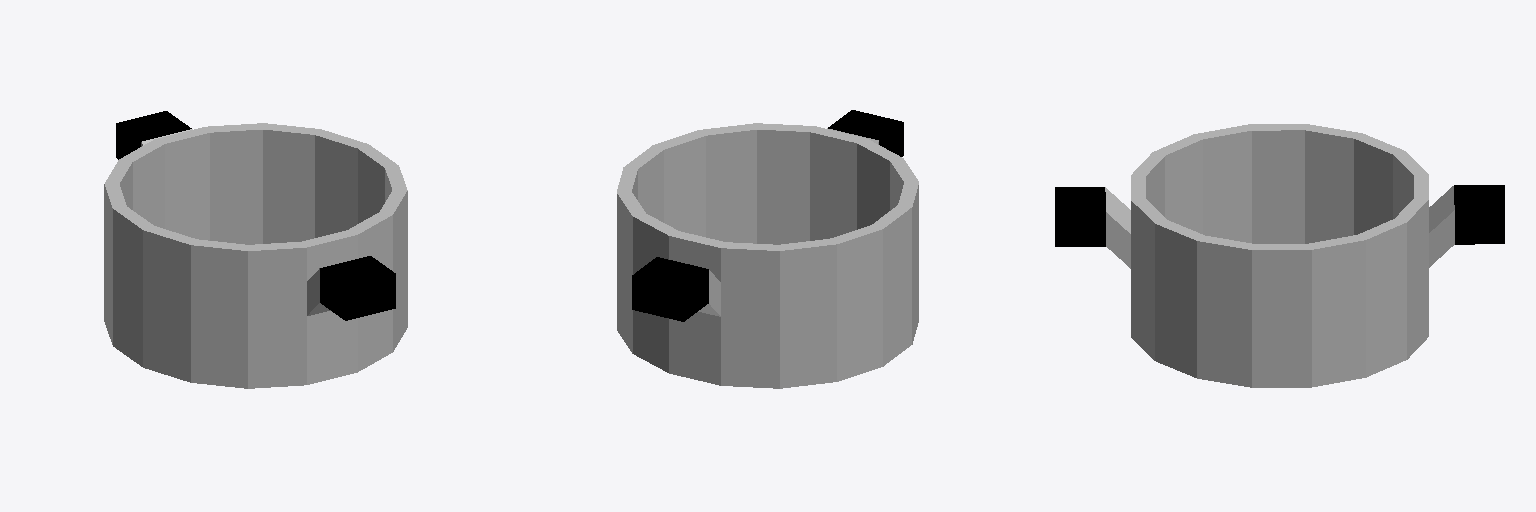
The model's file is Pan.obj.
3 views of the same model, side by side, from view 1: azimuth 30°, elevation 25°; view 2: azimuth 150°, elevation 25°; view 3: azimuth 270°, elevation 25° (orthographic).
Visible parts, largest first — view 1: Pan; view 2: Pan; view 3: Pan.
Part boxes in pixels (x1,y1,x2,y2): Pan: (104,111,407,388); Pan: (617,110,918,388); Pan: (1055,124,1504,387).
Bounding box in the file's own units: 0.59 × 0.3 × 0.8899.